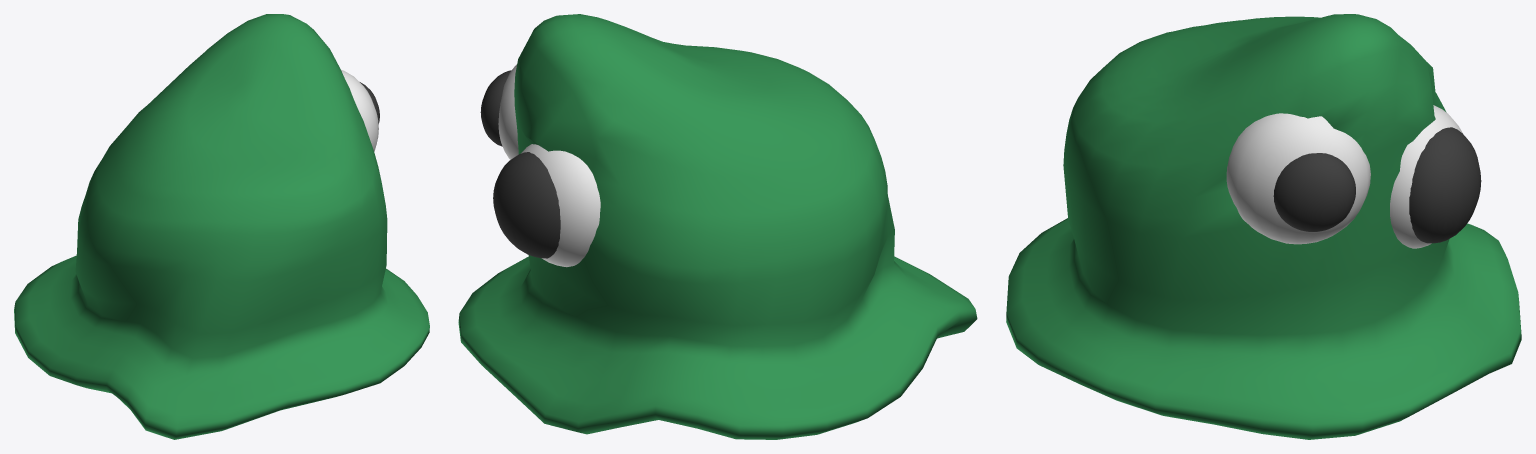
The model's file is SLIME_VERT.fbx.
The picture shows the model from 3 angles, left to right: view 1: azimuth 30°, elevation 25°; view 2: azimuth 150°, elevation 25°; view 3: azimuth 270°, elevation 25°; orthographic projection. The views are drawn at different scales.
Parts seen in each view (by area): view 1: SLIME2; view 2: SLIME2; view 3: SLIME2.
Part boxes in pixels (box(x1,y1,x2,y2)): SLIME2: box(14, 14, 429, 439); SLIME2: box(458, 14, 977, 439); SLIME2: box(1006, 14, 1521, 439).
Bounding box in the file's own units: 181 × 159 × 179.
